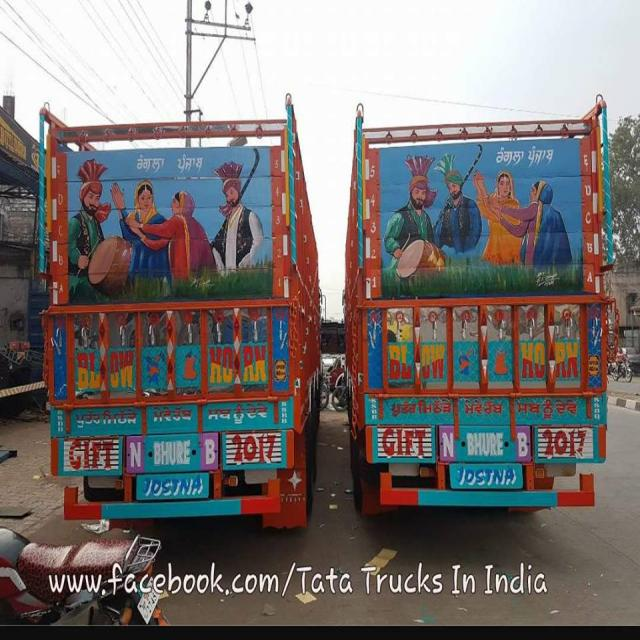motorbike: (0, 516, 177, 640), (316, 345, 348, 417), (614, 331, 636, 398)
truck: (24, 76, 318, 530), (347, 96, 610, 540)
